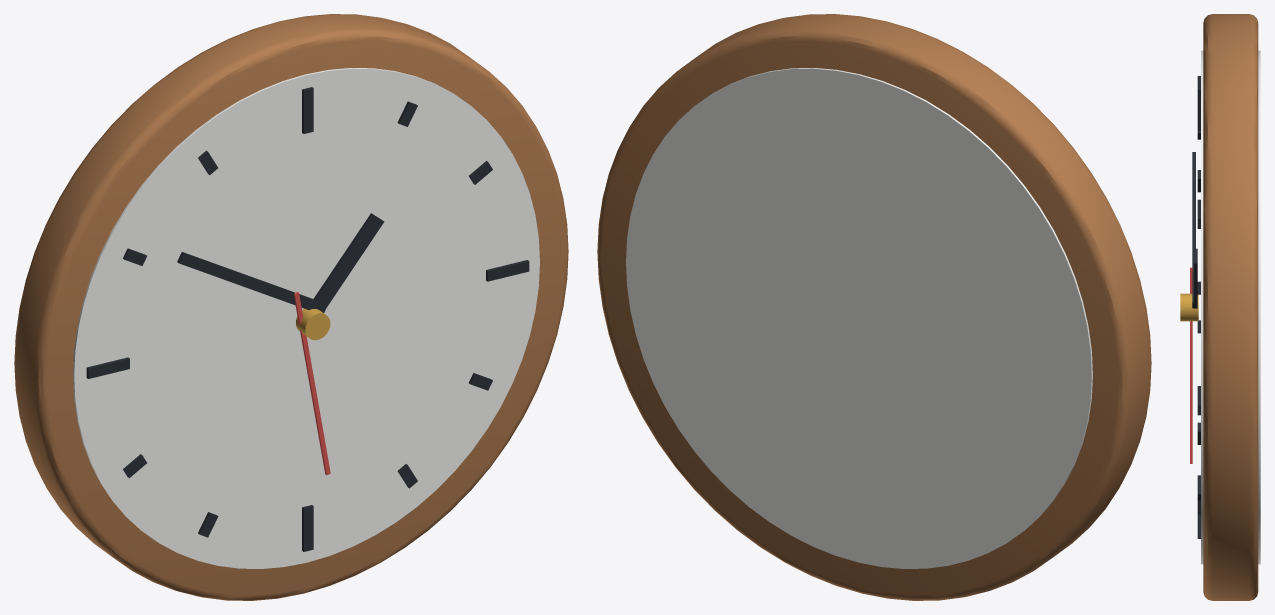
The model's file is wallclock.glb.
3 renders of one model, left to right at view 1: azimuth 30°, elevation 25°; view 2: azimuth 150°, elevation 25°; view 3: azimuth 270°, elevation 25°, orthographic. The views are drawn at different scales.
Visible parts, largest first — view 1: face.001, frame, minhand, hourhand, sechand, cap; view 2: face.001, frame; view 3: frame, face.001, sechand, minhand, cap, hourhand, tick0.
Part boxes in pixels (left/top/right/bottom): face.001: left=73, top=68, right=539, bottom=568; frame: left=14, top=14, right=568, bottom=600; minhand: left=177, top=252, right=327, bottom=312; hourhand: left=313, top=213, right=384, bottom=306; sechand: left=294, top=292, right=330, bottom=475; cap: left=296, top=308, right=330, bottom=340; face.001: left=626, top=68, right=1092, bottom=568; frame: left=597, top=14, right=1151, bottom=600; frame: left=1203, top=14, right=1258, bottom=600; face.001: left=1201, top=50, right=1260, bottom=564; sechand: left=1190, top=267, right=1192, bottom=463; minhand: left=1192, top=152, right=1195, bottom=308; cap: left=1180, top=293, right=1198, bottom=321; hourhand: left=1194, top=248, right=1197, bottom=308; tick0: left=1197, top=84, right=1200, bottom=130.
Bounding box in the file's own units: 0.64 × 0.64 × 0.0875.
